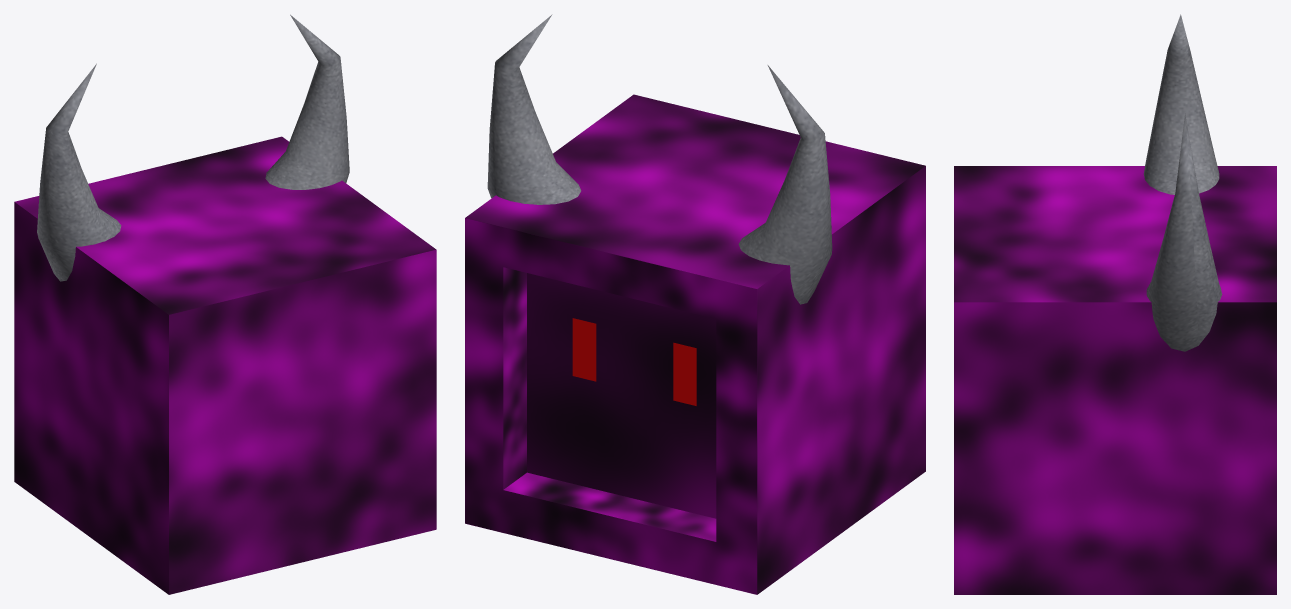
Rendered from boss2.obj.
3 renders of one model, left to right at view 1: azimuth 30°, elevation 25°; view 2: azimuth 150°, elevation 25°; view 3: azimuth 270°, elevation 25°, orthographic. The views are drawn at different scales.
Parts seen in each view (by area): view 1: pCube1, pCone2, pCone3; view 2: pCube1, pPlane3, pCone2, pCone3, pPlane1, pPlane2; view 3: pCube1, pCone3, pCone2.
Part boxes in pixels (bbox=[...]): pCube1: bbox=[14, 136, 436, 594]; pCone2: bbox=[37, 63, 121, 281]; pCone3: bbox=[265, 14, 349, 189]; pCube1: bbox=[465, 94, 925, 594]; pPlane3: bbox=[465, 218, 757, 594]; pCone2: bbox=[738, 65, 832, 304]; pCone3: bbox=[487, 14, 581, 204]; pPlane1: bbox=[572, 318, 596, 381]; pPlane2: bbox=[673, 342, 696, 405]; pCube1: bbox=[954, 166, 1276, 594]; pCone3: bbox=[1146, 113, 1222, 351]; pCone2: bbox=[1143, 14, 1219, 194].
Bounding box in the file's own units: 3.31 × 4.61 × 2.91.
3 materials, 3 textured.
